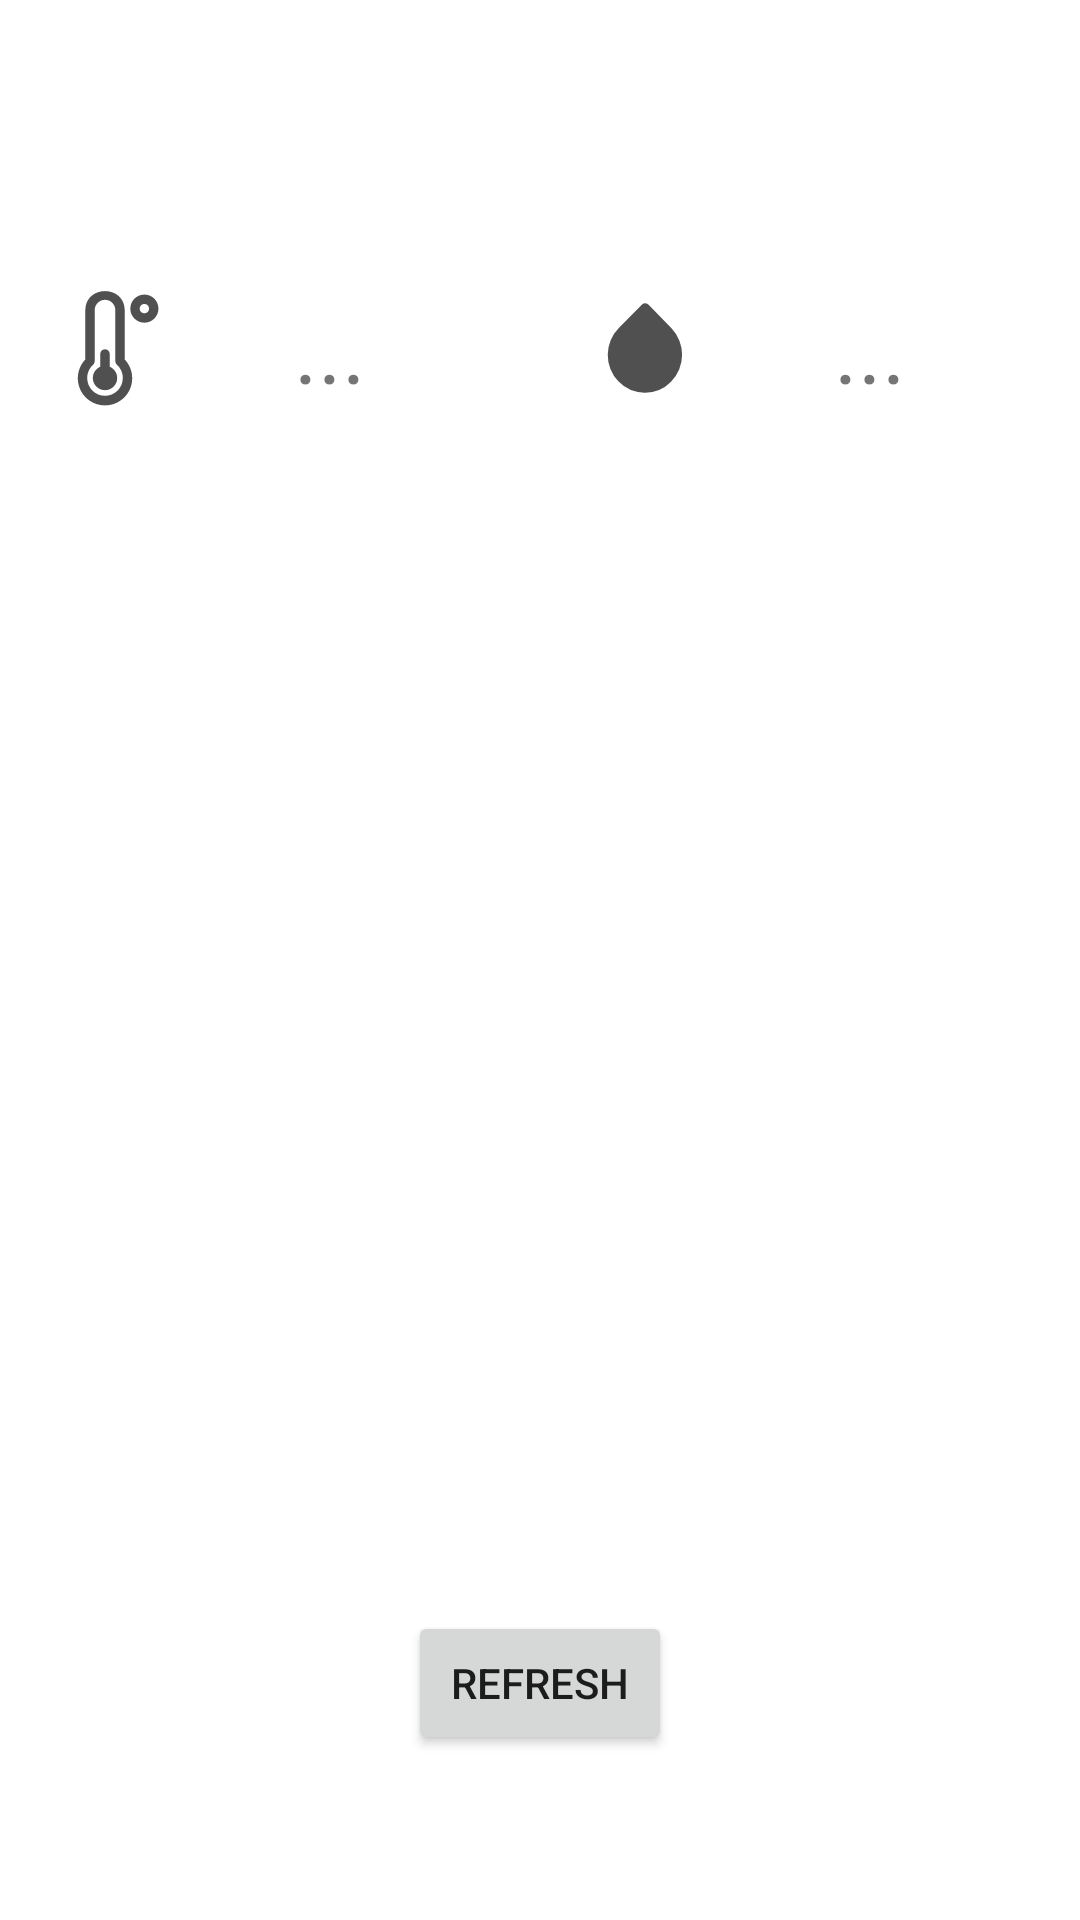

Icons on this 1080*1920 Android screen, each with its box as [x1=x1, y1=y1, x2=x2, y2=y2]:
thermometer: [x1=77, y1=291, x2=159, y2=406]
water: [x1=607, y1=303, x2=682, y2=393]
